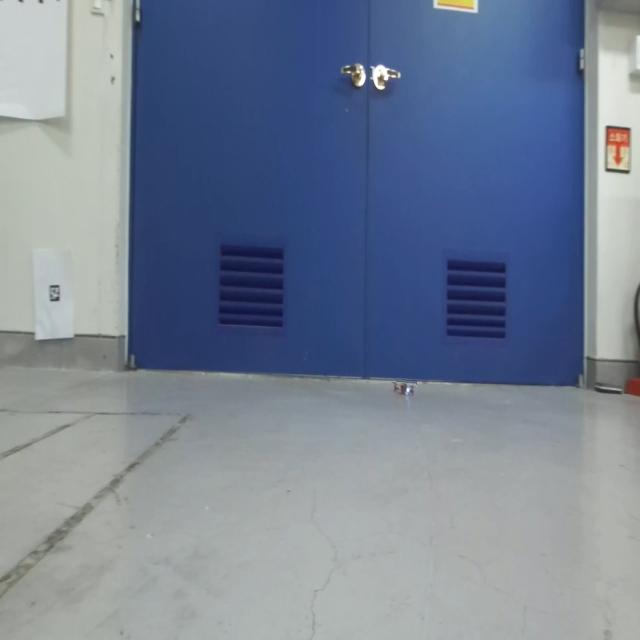crazyflie: (392, 378, 418, 400)
